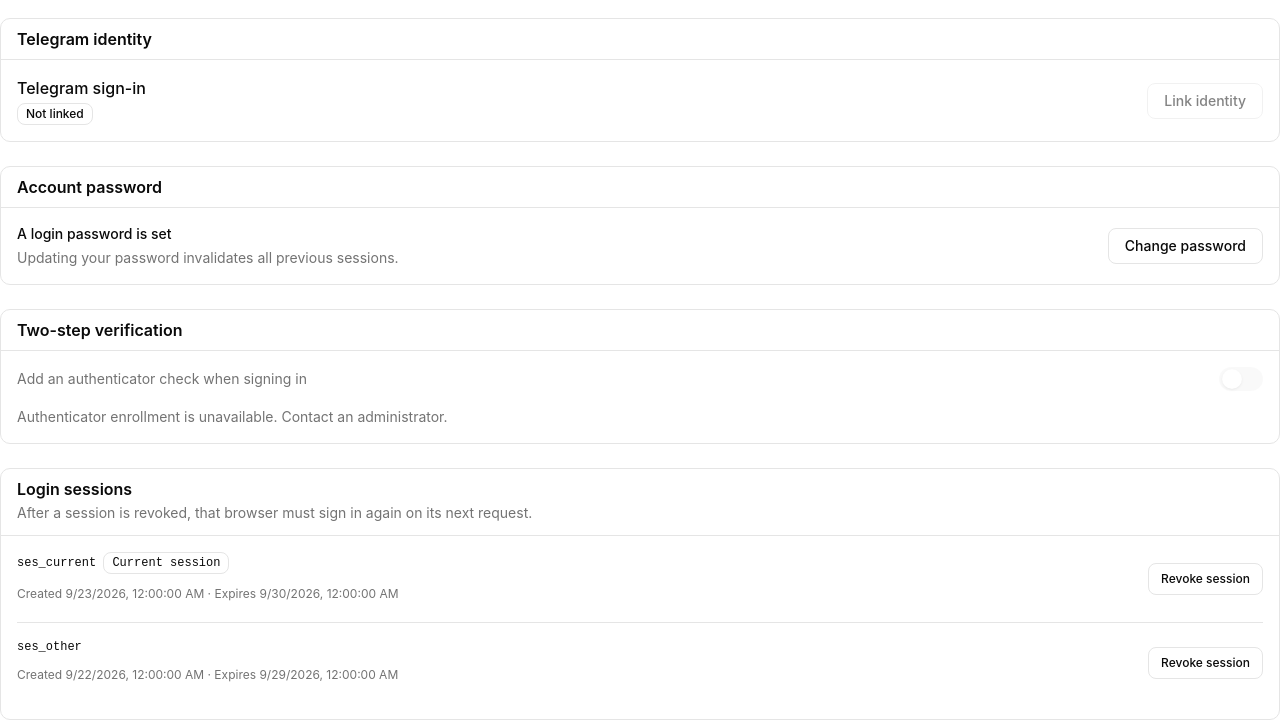
account settings › revokes another session after confirmation and preserves the current session
This screenshot has width=1280, height=720.
(page scrolled)
Click the button "Revoke session" in the row of "ses_other": (1206, 663) [1148,647,1263,679]
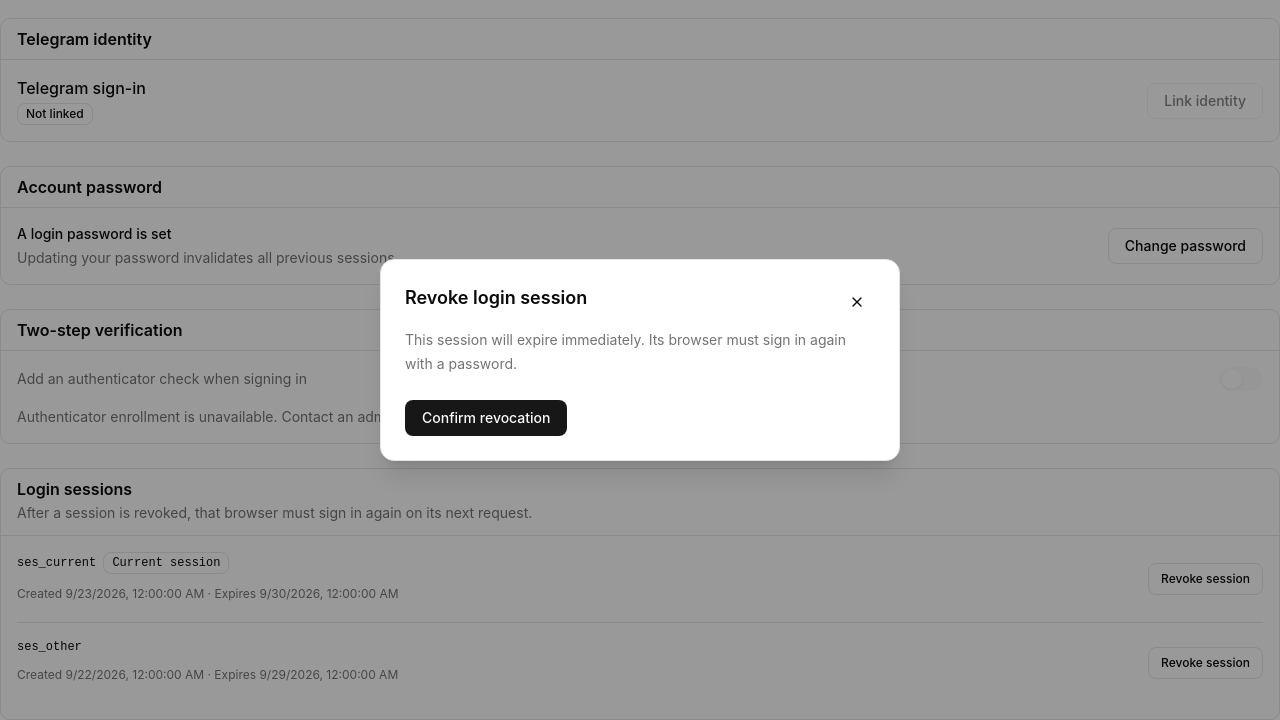
Click the button "Confirm revocation": (486, 418) [405,400,568,436]
(page scrolled)
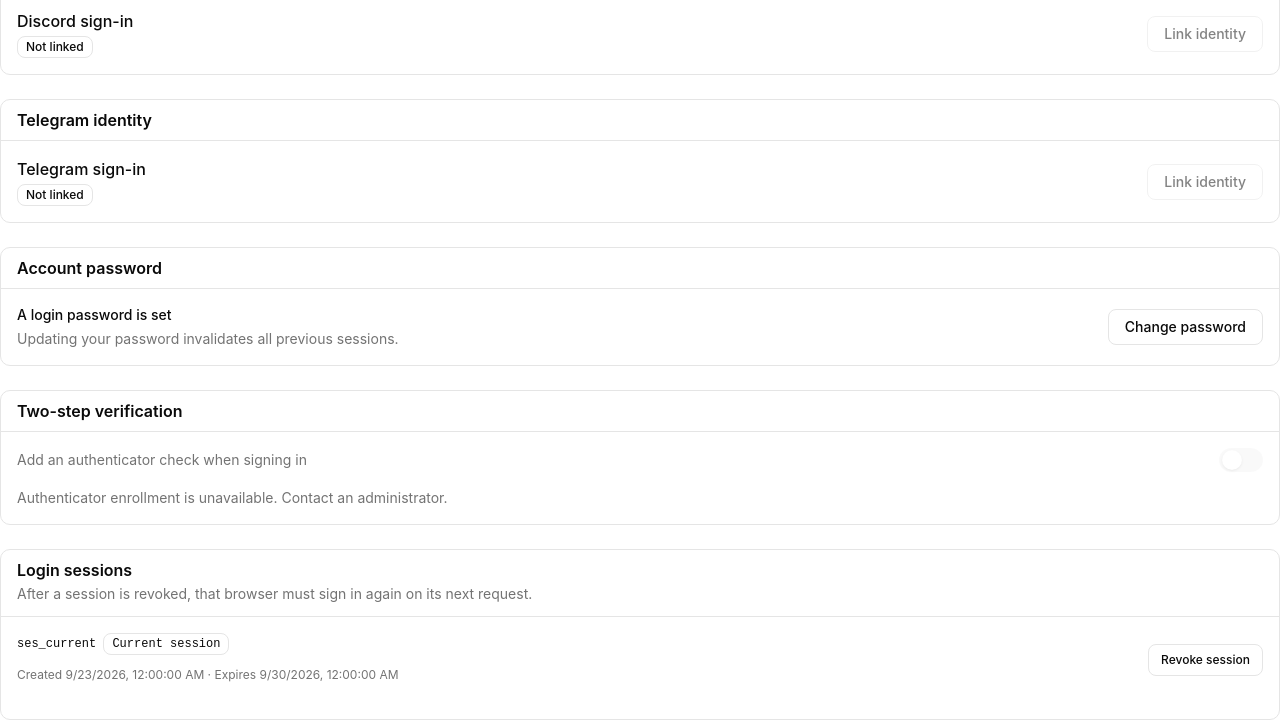
Expected: the text "ses_current" is shown, [17,637,96,651]
Expected: the text "ses_other" is gone
